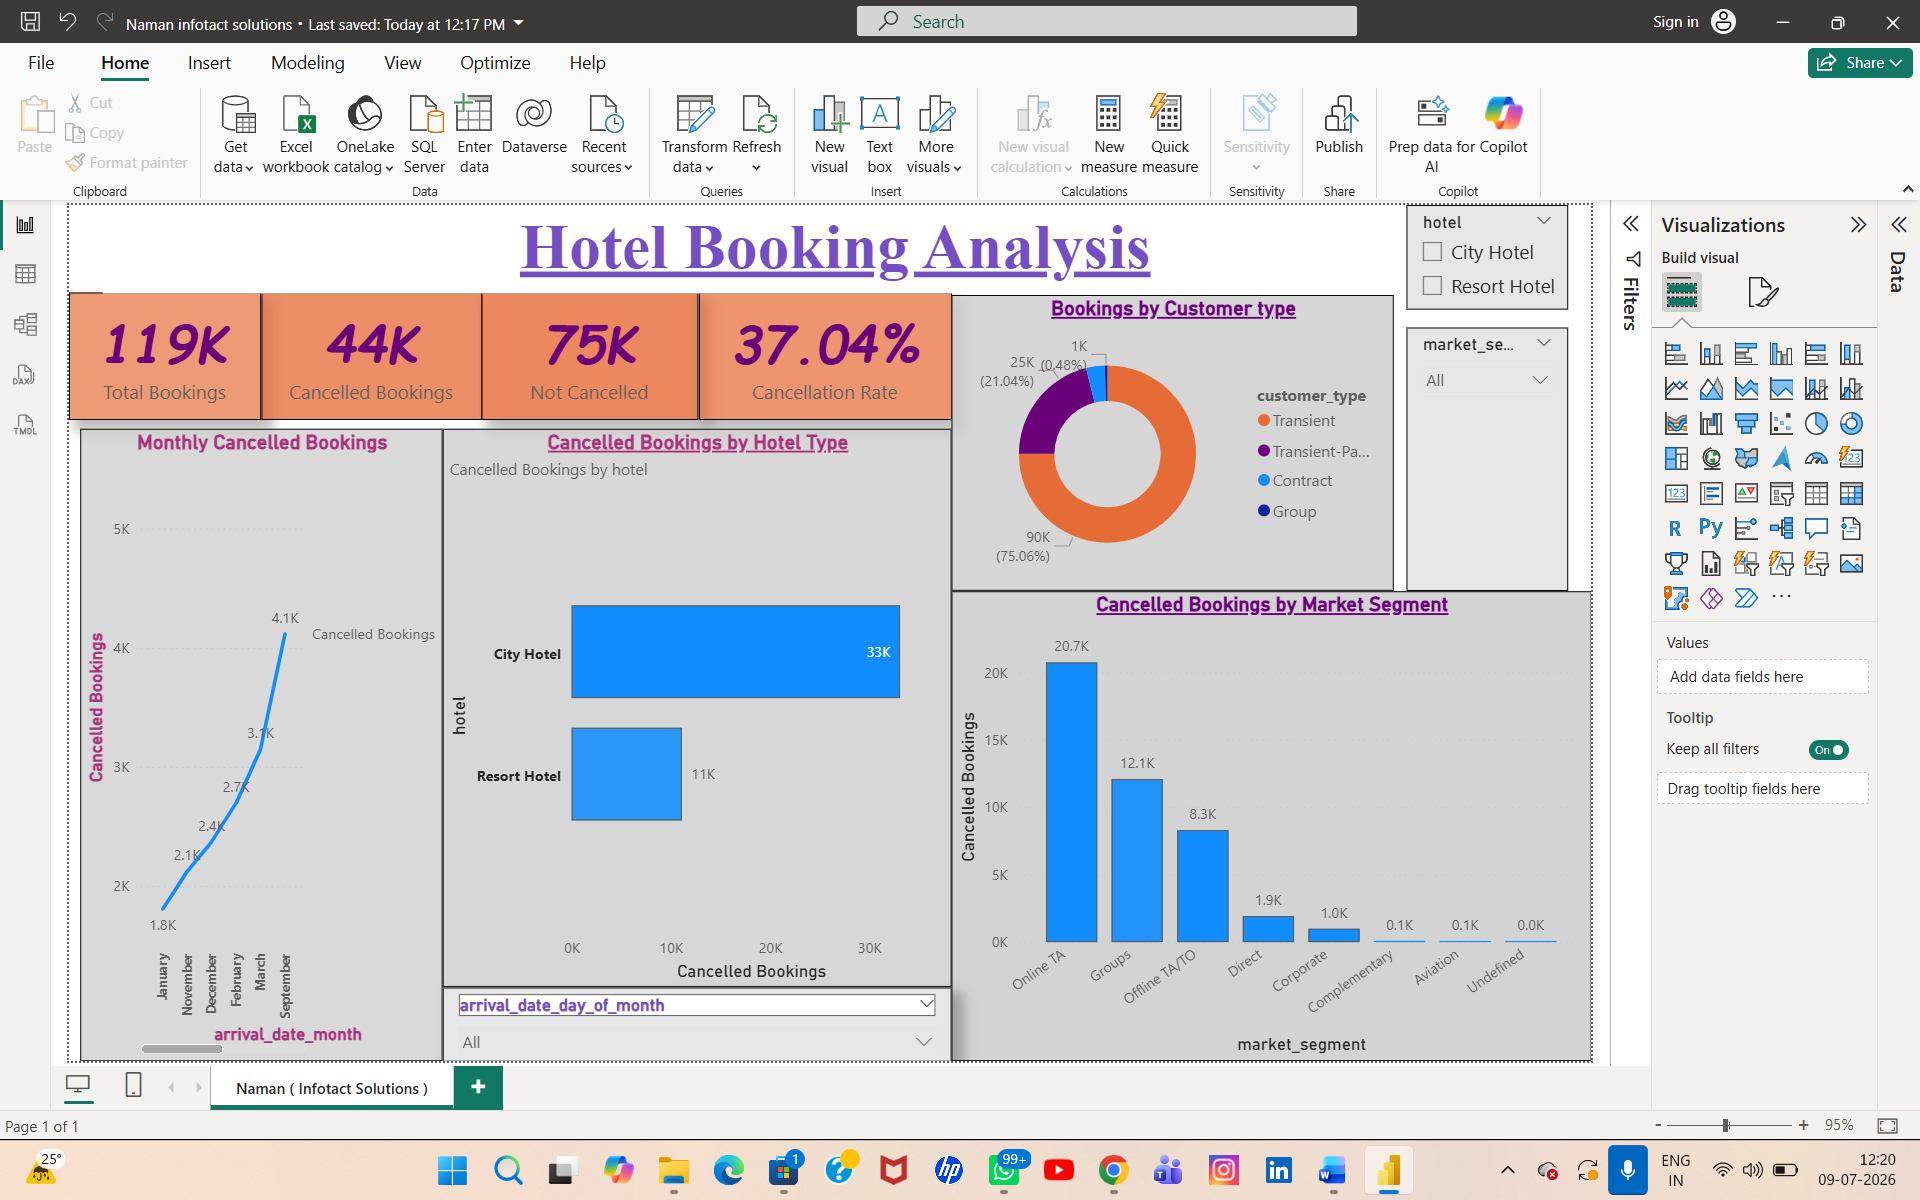

The page's visual inventory and layout, read from the dashboard file:
{"tool":"powerbi","page":{"name":"Naman ( Infotact Solutions )","canvas":[1280,720],"ordinal":0},"visuals":[{"type":"card","fields":{"Values":["hotel_bookings.Total Bookings"]},"box":[0,74.1,161.9,107],"z":1000},{"type":"card","fields":{"Values":["hotel_bookings.Cancelled Bookings"]},"box":[161.9,74.1,185.2,107],"z":2000},{"type":"card","fields":{"Values":["hotel_bookings.Not Cancelled"]},"box":[347.2,74.1,182.5,107],"z":3000},{"type":"card","fields":{"Values":["hotel_bookings.Cancellation Rate"]},"box":[529.7,74.1,212.7,107],"z":4000},{"type":"lineChart","title":"Monthly Cancelled Bookings","fields":{"Category":["hotel_bookings.arrival_date_month"],"Y":["hotel_bookings.Cancelled Bookings"]},"box":[9.5,188.2,304.9,532],"z":5000},{"type":"barChart","title":"Cancelled Bookings by Hotel Type","fields":{"Y":["hotel_bookings.Cancelled Bookings"],"Category":["hotel_bookings.hotel"]},"box":[314.4,188.2,427.9,470],"z":6000},{"type":"columnChart","title":"Cancelled Bookings by Market Segment","fields":{"Category":["hotel_bookings.market_segment"],"Y":["hotel_bookings.Cancelled Bookings"]},"box":[742.3,324.9,538.3,395.3],"z":7000},{"type":"donutChart","title":"Bookings by Customer type","fields":{"Category":["hotel_bookings.customer_type"],"Y":["hotel_bookings.Total Bookings"]},"box":[742.3,75.7,372.2,249.2],"z":8000},{"type":"textbox","box":[28.8,0,1232.3,74.1],"z":9000},{"type":"slicer","fields":{"Values":["hotel_bookings.hotel"]},"box":[1125,0,135.6,88.3],"z":10000},{"type":"slicer","fields":{"Values":["hotel_bookings.arrival_date_day_of_month"]},"box":[314.4,658.2,427.9,62],"z":11000},{"type":"slicer","fields":{"Values":["hotel_bookings.market_segment"]},"box":[1125,103,135.6,221.8],"z":12000}]}

Visuals, with their boxes on the page's 1280x720 design canvas (x1, y1, x2, y2). These are canvas units, not pixel positions in the 1920x1200 screenshot, which may show the page scaled, cropped or inside an application window:
card - hotel_bookings.Total Bookings: (0, 74, 162, 181)
card - hotel_bookings.Cancelled Bookings: (162, 74, 347, 181)
card - hotel_bookings.Not Cancelled: (347, 74, 530, 181)
card - hotel_bookings.Cancellation Rate: (530, 74, 742, 181)
"Monthly Cancelled Bookings" lineChart: (10, 188, 314, 720)
"Cancelled Bookings by Hotel Type" barChart: (314, 188, 742, 658)
"Cancelled Bookings by Market Segment" columnChart: (742, 325, 1281, 720)
"Bookings by Customer type" donutChart: (742, 76, 1114, 325)
textbox: (29, 0, 1261, 74)
slicer - hotel_bookings.hotel: (1125, 0, 1261, 88)
slicer - hotel_bookings.arrival_date_day_of_month: (314, 658, 742, 720)
slicer - hotel_bookings.market_segment: (1125, 103, 1261, 325)
